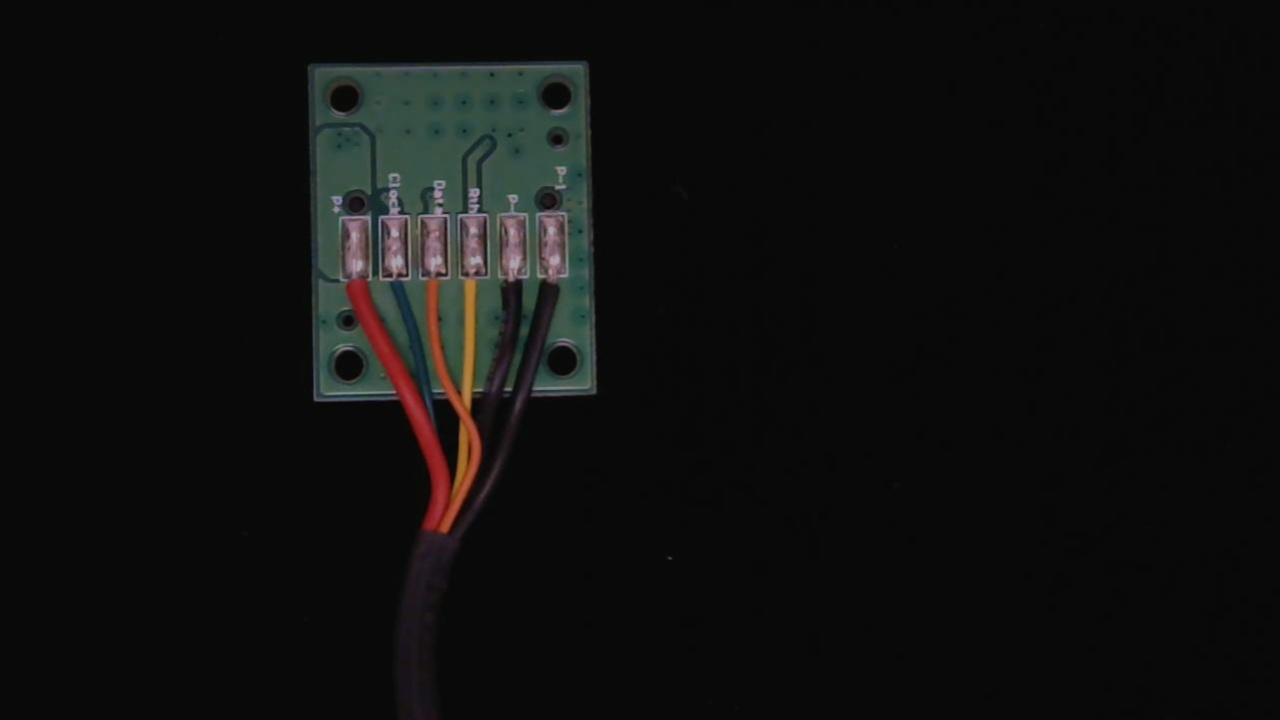Black: (495, 261, 530, 335)
Black1: (537, 260, 570, 328)
Green: (381, 259, 413, 321)
Orange: (418, 259, 450, 332)
Red: (340, 258, 375, 325)
Yellow: (457, 260, 492, 335)
